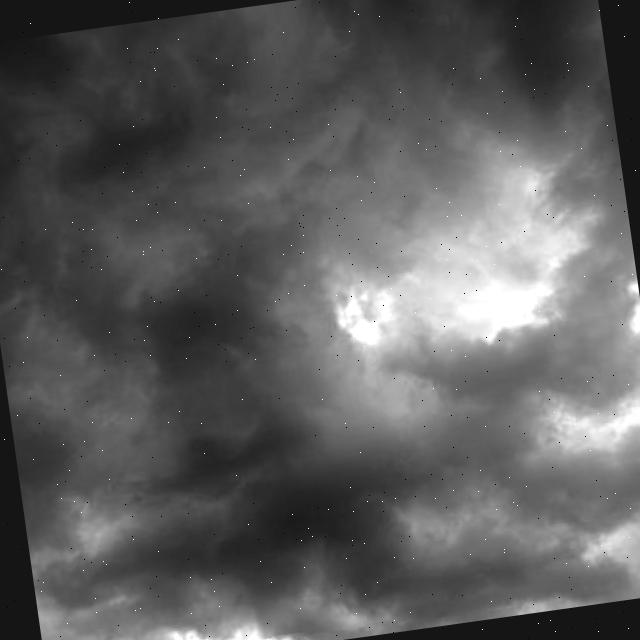Ns: (1, 1, 640, 572)
